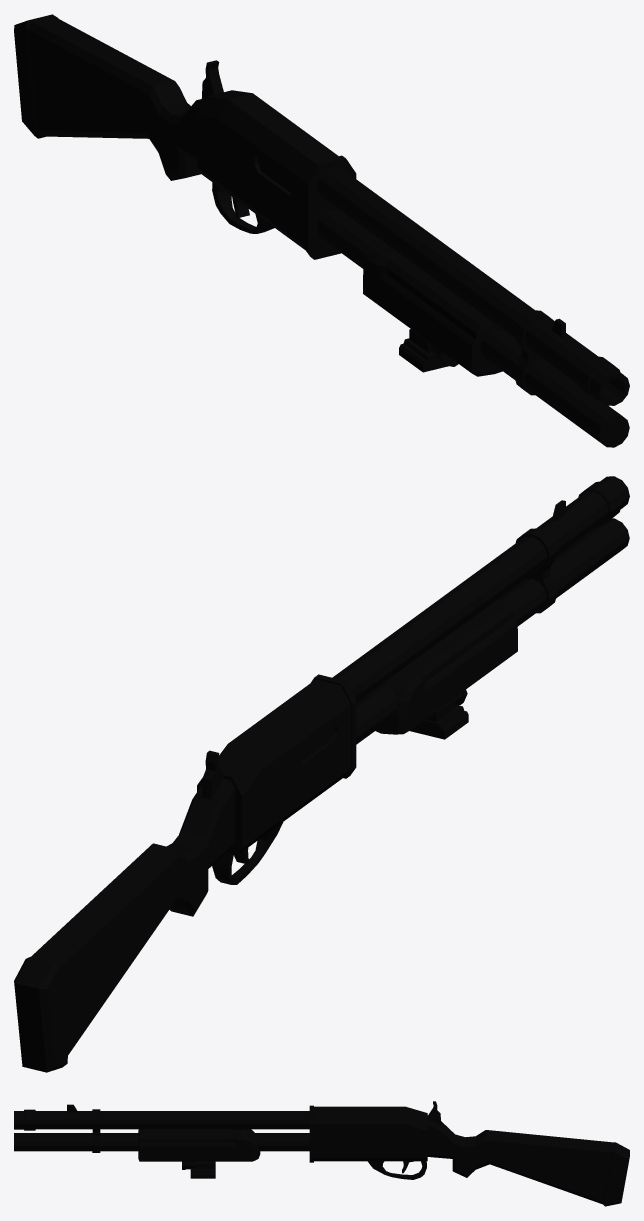
3 views of the same model, one above another, from view 1: azimuth 30°, elevation 25°; view 2: azimuth 150°, elevation 25°; view 3: azimuth 270°, elevation 25° (orthographic). The views are drawn at different scales.
Parts seen in each view (by area): view 1: breacher12; view 2: breacher12; view 3: breacher12.
Part boxes in pixels (x1=…): breacher12: x1=14, y1=14, x2=629, y2=447; breacher12: x1=14, y1=476, x2=629, y2=1072; breacher12: x1=14, y1=1101, x2=629, y2=1206.
Bounding box in the file's own units: 0.0473 × 0.1808 × 1.
Materials: 1 (1 with a texture image).
